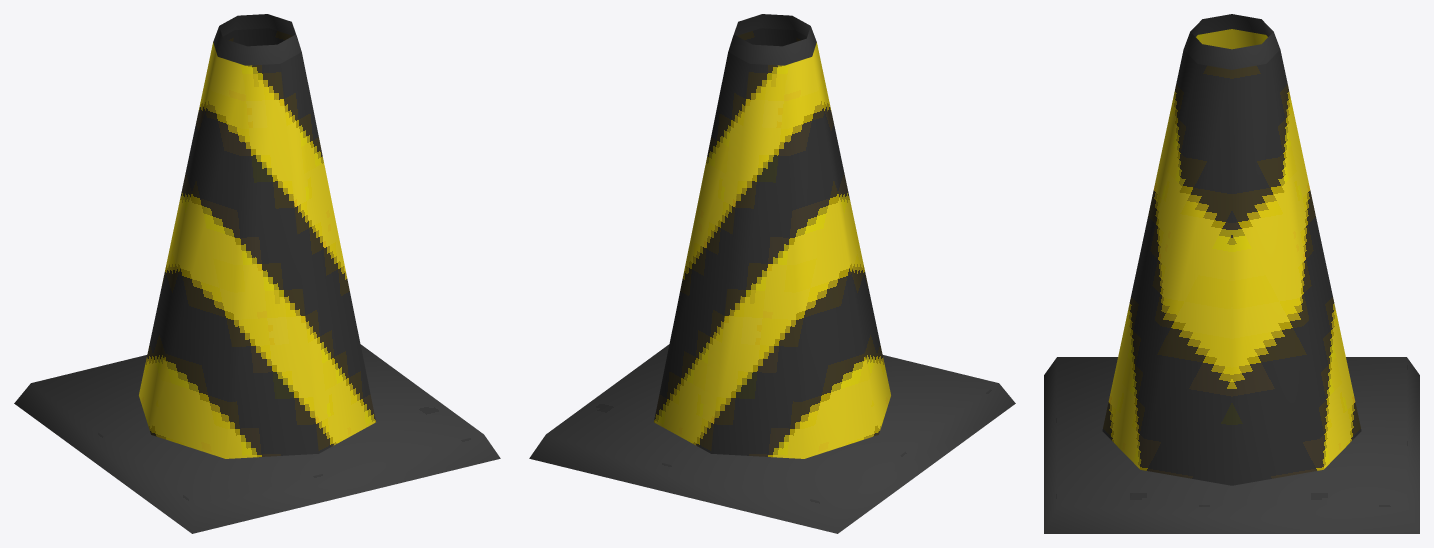
Rendered from ConeB.obj.
3 views of the same model, side by side, from view 1: azimuth 30°, elevation 25°; view 2: azimuth 150°, elevation 25°; view 3: azimuth 270°, elevation 25° (orthographic). The views are drawn at different scales.
Bounding box in the file's own units: 8.12 × 10.08 × 8.12.
2 materials, 2 textured.
